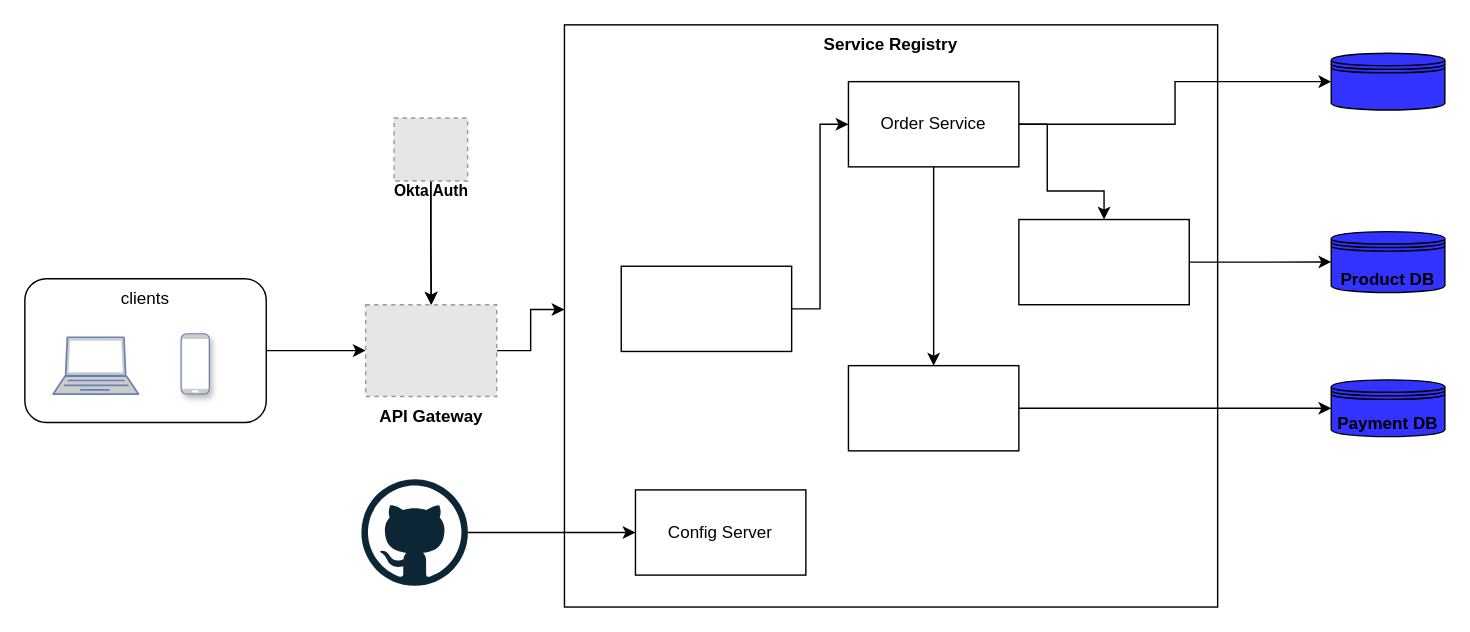
Image size: 1470x632. Some labels were removed from this diagram. Grey dashed boxes stand in for pictures. The shapes that lost their labels are listed below. From the top down, each one's centre as x and y in pixels, then its label:
point (1387, 81): Order DB
point (1103, 261): Product Service
point (706, 308): User Service
point (933, 407): Payment Service
